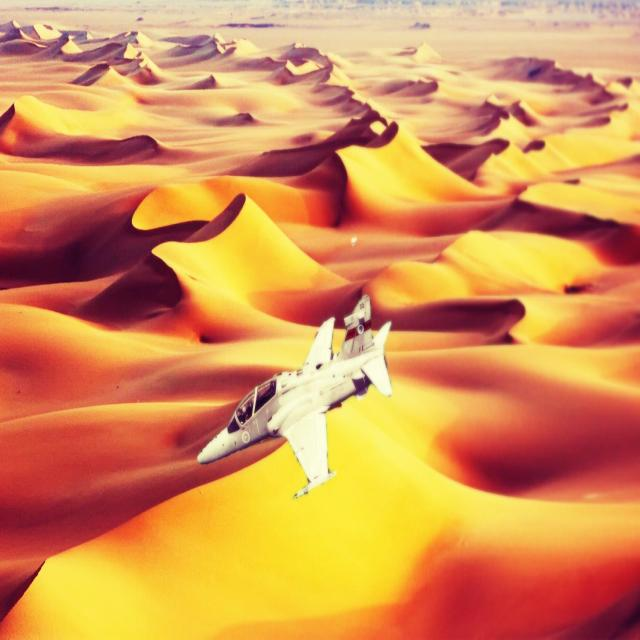airplane: (196, 292, 393, 500)
